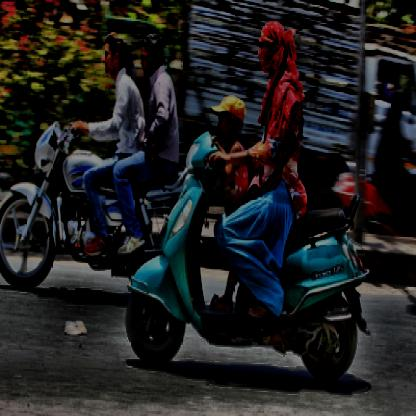not_wear: (258, 22, 286, 79), (219, 98, 243, 153), (140, 32, 158, 74), (104, 33, 122, 73)
